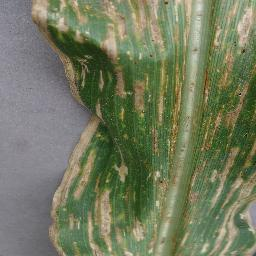Gray_Leaf_Spot: (149, 0, 255, 256), (31, 0, 150, 111), (47, 111, 97, 256), (97, 194, 149, 256), (112, 156, 133, 186), (98, 170, 111, 190), (119, 133, 139, 144), (98, 111, 108, 133), (142, 158, 150, 185), (118, 111, 130, 126), (137, 109, 150, 120)
